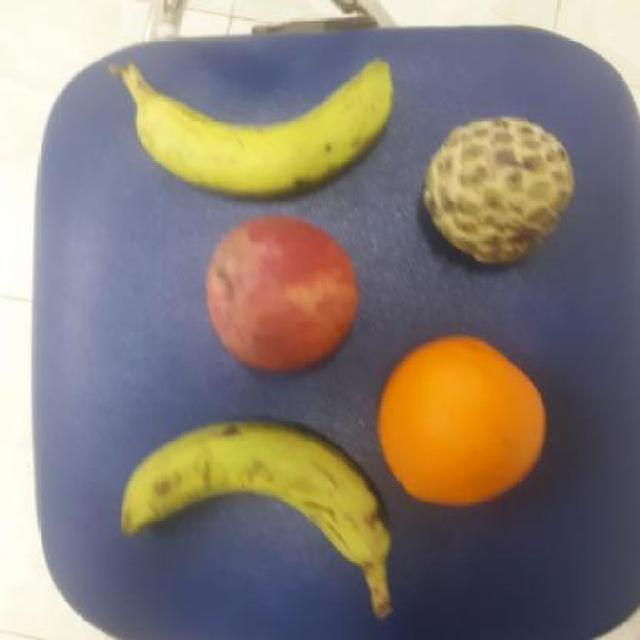apple: (200, 211, 362, 374)
banana: (113, 414, 396, 569), (122, 55, 398, 196)
oren: (376, 335, 550, 507)
sugar apple: (418, 112, 578, 266)
